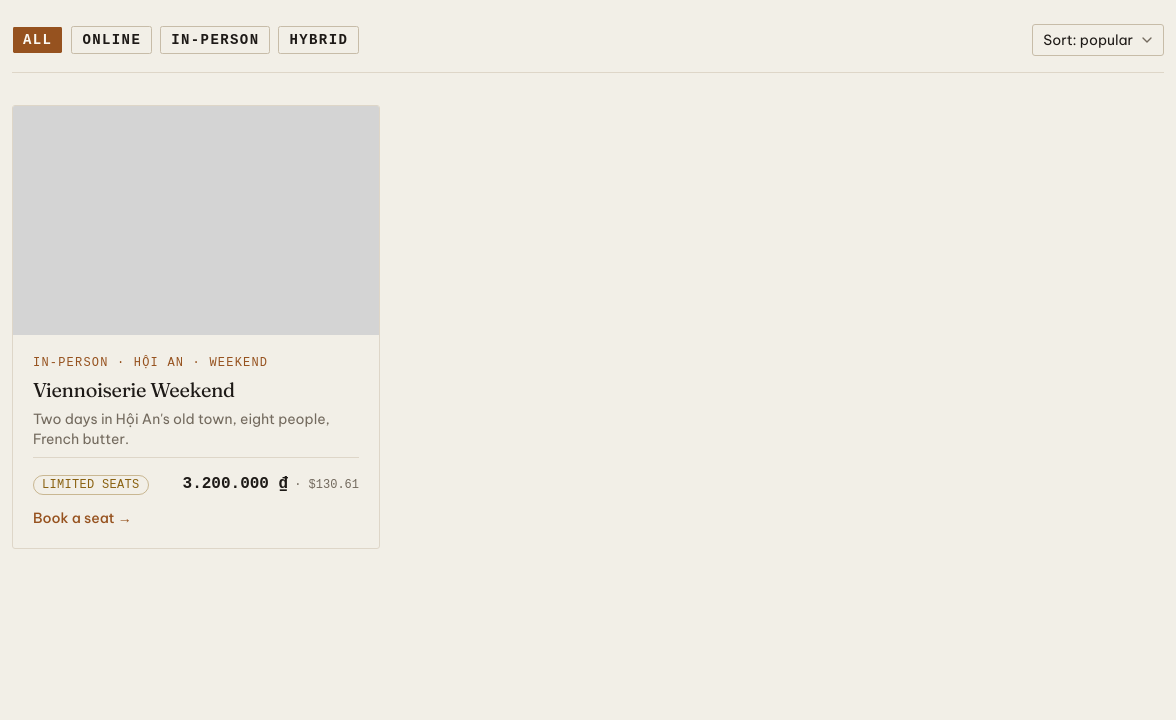
Test: CoursesBrowser › shows an empty state when no course matches the filter
This screenshot has width=1176, height=720.
Click the button "Online".
click(112, 40)  # box [71,26,152,54]
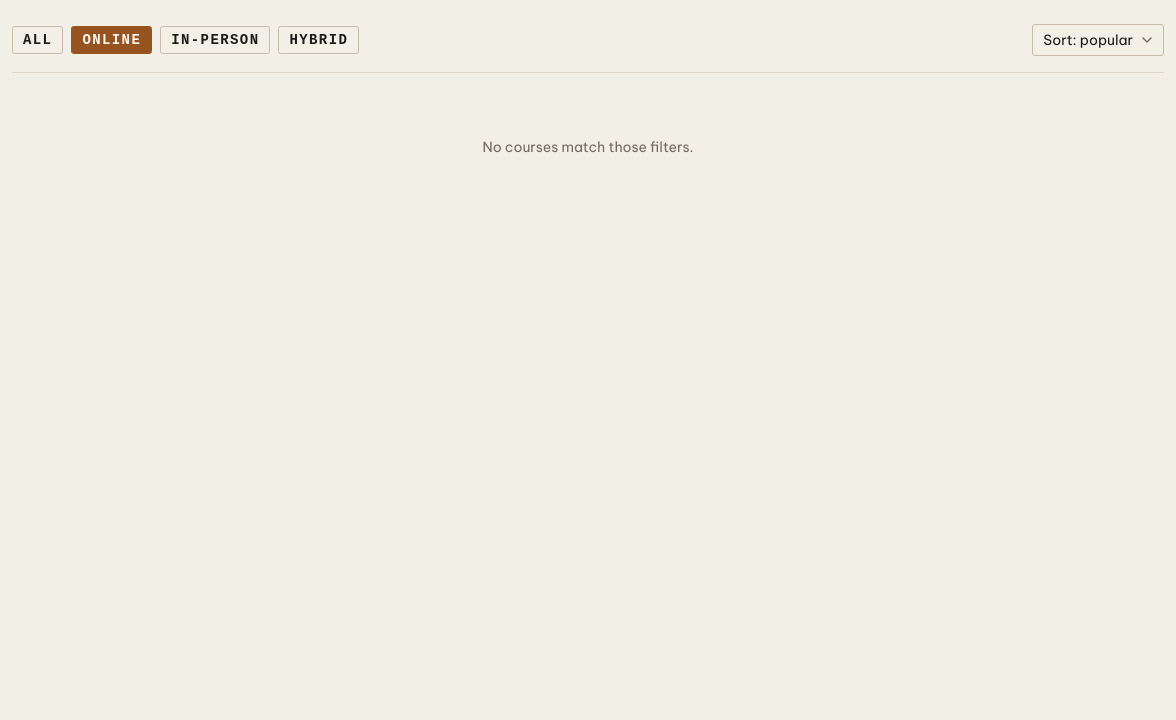
Check: the text "No courses match those filters." is shown, box [482,138,694,156]
